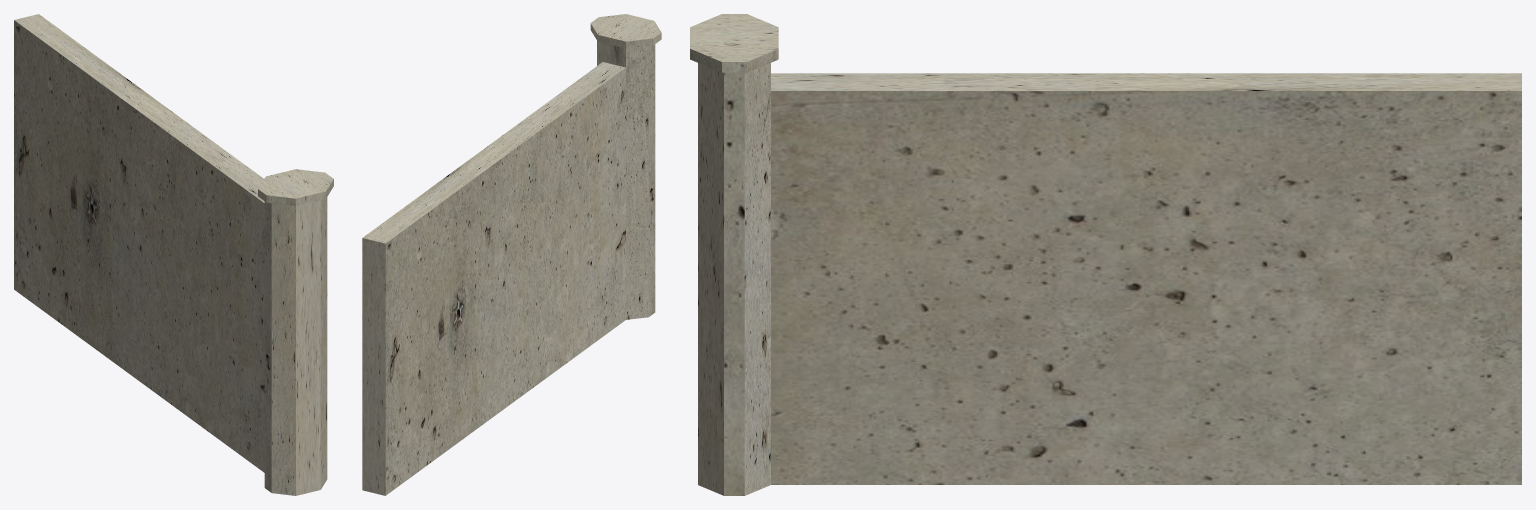
The model's file is wall.FBX.
The picture shows the model from 3 angles, left to right: view 1: azimuth 30°, elevation 25°; view 2: azimuth 150°, elevation 25°; view 3: azimuth 270°, elevation 25°; orthographic projection. The views are drawn at different scales.
Visible parts, largest first — view 1: Cube_2; view 2: Cube_2; view 3: Cube_2.
Part boxes in pixels (bbox=[...]): Cube_2: bbox=[14, 14, 333, 495]; Cube_2: bbox=[362, 14, 661, 495]; Cube_2: bbox=[690, 14, 1521, 495].
Size of the model in its own units: 24.14 by 103 by 177.
Materials: 1 (1 with a texture image).
